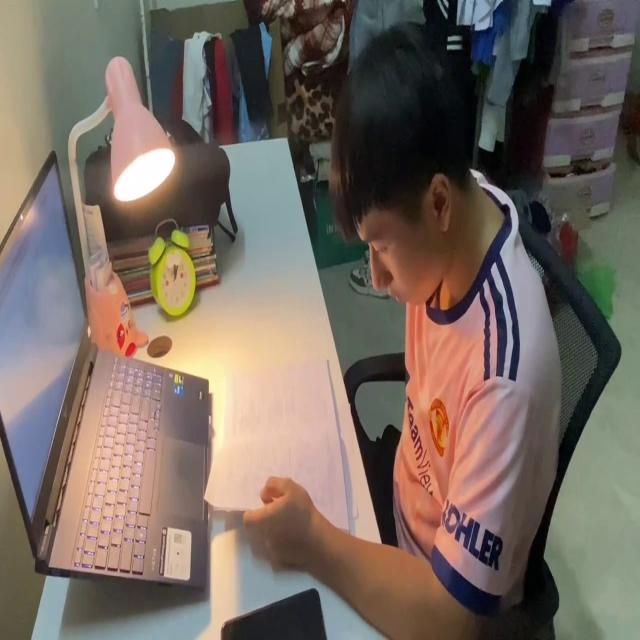book: (201, 344, 354, 556)
laptop: (0, 147, 212, 601)
phone: (220, 582, 328, 640)
student: (241, 8, 562, 640)
